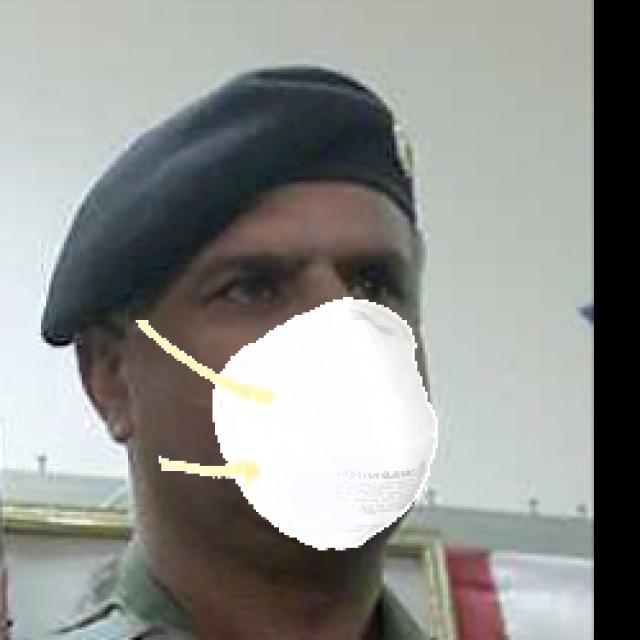mask: (125, 291, 461, 554)
